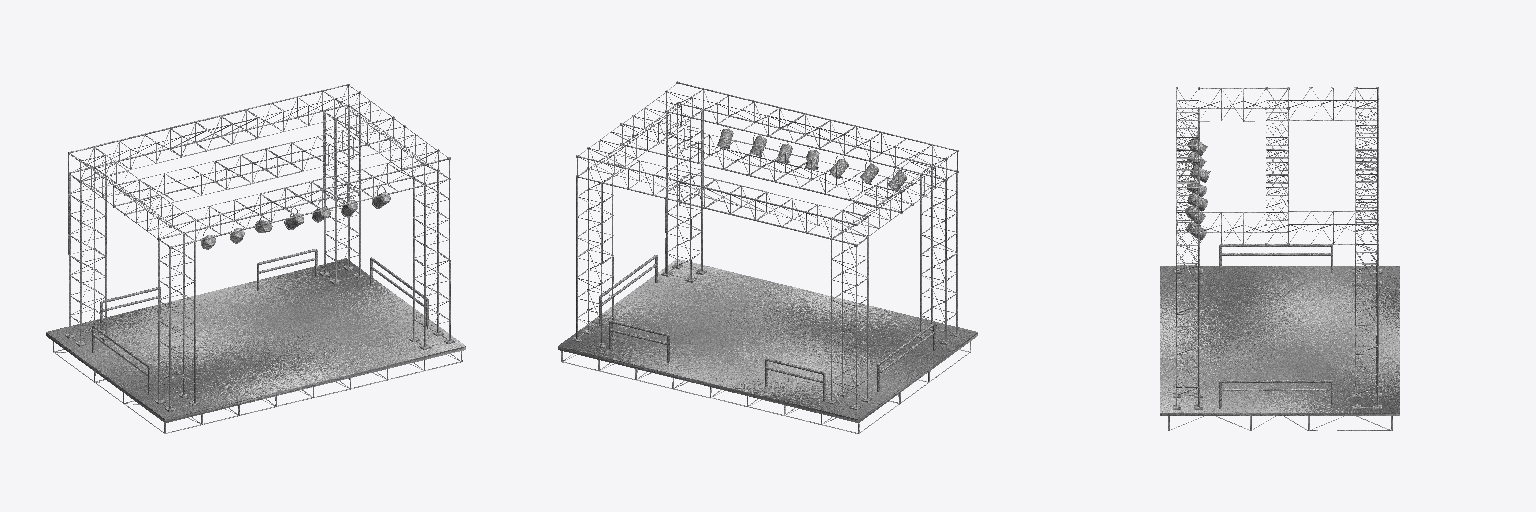
3 views of the same model, side by side, from view 1: azimuth 30°, elevation 25°; view 2: azimuth 150°, elevation 25°; view 3: azimuth 270°, elevation 25° (orthographic).
Parts seen in each view (by area): view 1: default; view 2: default; view 3: default.
Boxes of the visible parts, x1,y1,x2,y2 form: default: [46, 84, 465, 433]; default: [558, 81, 977, 433]; default: [1160, 87, 1399, 430].
Bounding box in the file's own units: 0.1939 × 0.1254 × 0.1334.
Materials: 1 (1 with a texture image).